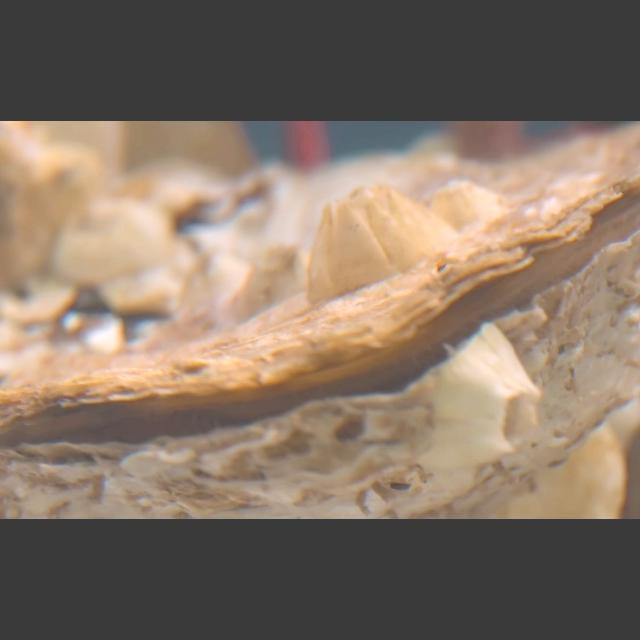Oyster-Open: (0, 122, 640, 520)
